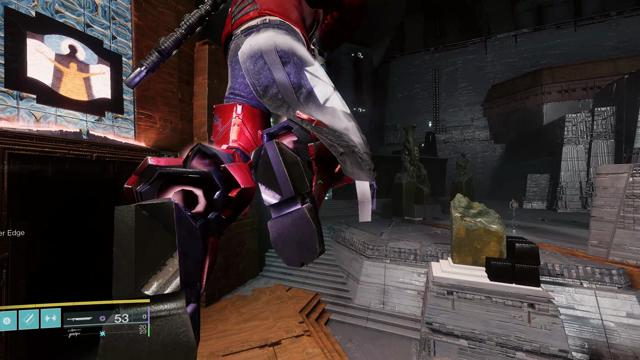give: (26, 31, 111, 101)
